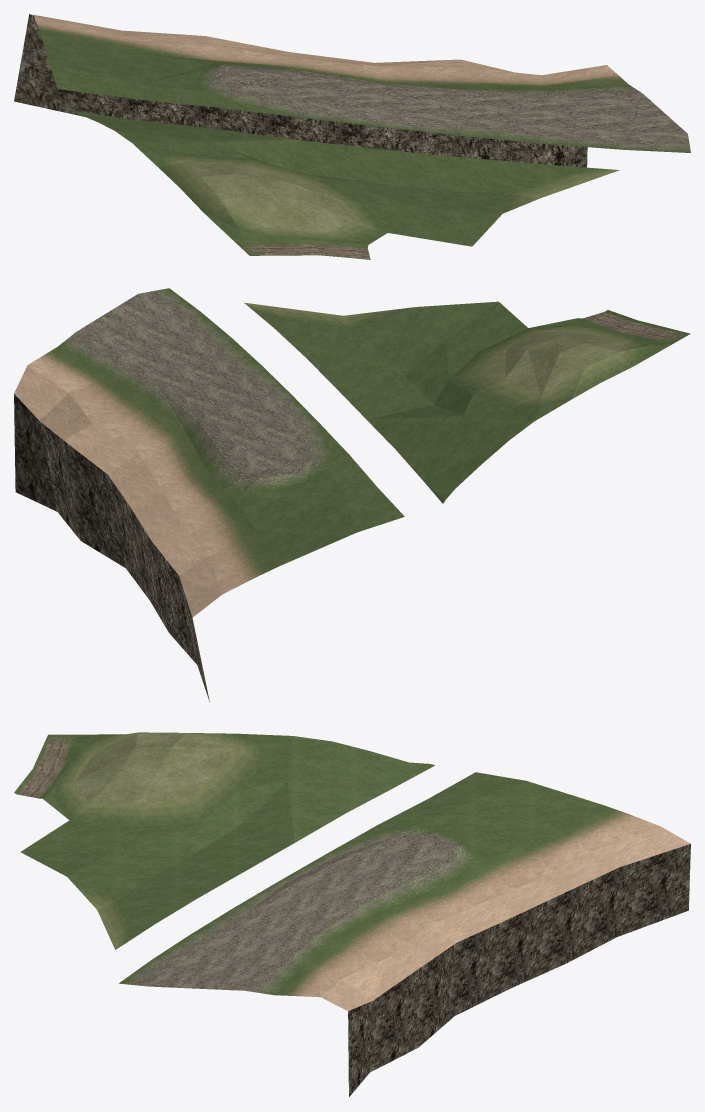
File: cunteground01.obj
3 renders of one model, top to bottom at view 1: azimuth 30°, elevation 25°; view 2: azimuth 150°, elevation 25°; view 3: azimuth 270°, elevation 25°, orthographic. The views are drawn at different scales.
Visible parts, largest first — view 1: cuntEground01; view 2: cuntEground01; view 3: cuntEground01.
Boxes of the visible parts, <box> form: cuntEground01: <box>14,14,690,259</box>; cuntEground01: <box>14,288,690,702</box>; cuntEground01: <box>14,732,690,1096</box>.
Bounding box in the file's own units: 225 × 73.83 × 289.
10 materials, 10 textured.
